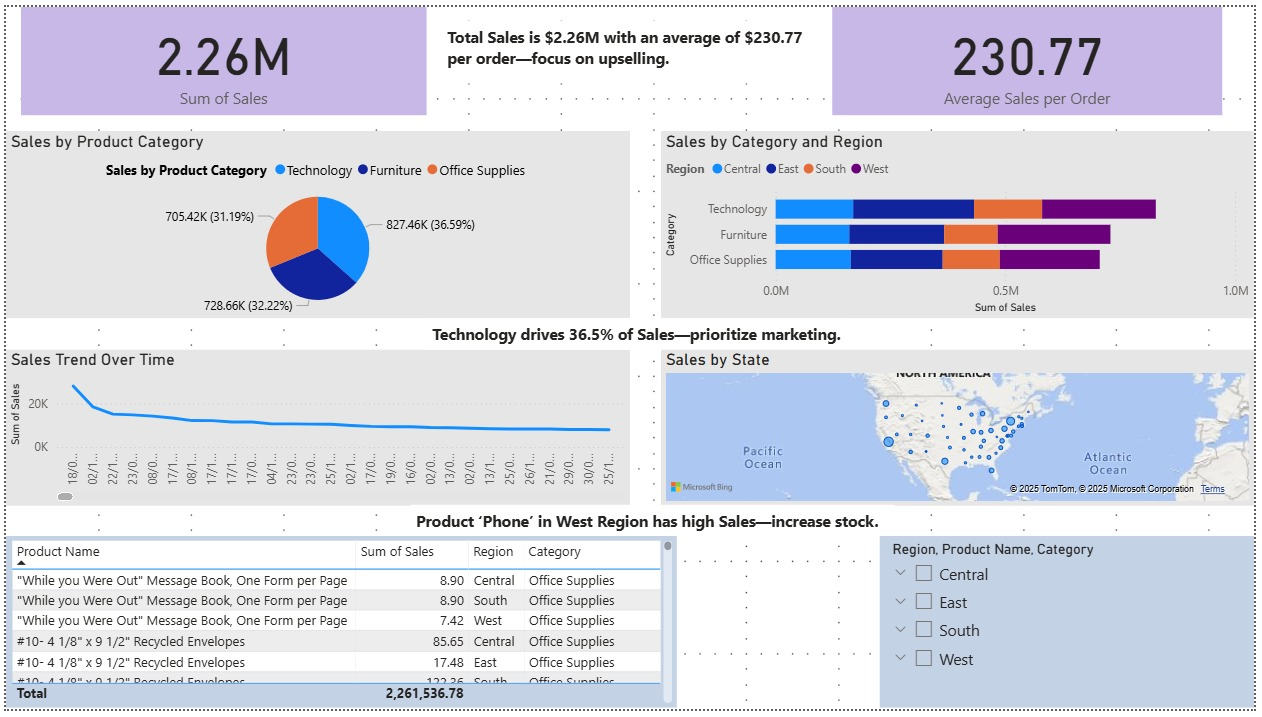

The dashboard page shown, as its layout file describes it:
{"tool":"powerbi","page":{"name":"Page 1","canvas":[1280,720],"ordinal":0},"visuals":[{"type":"barChart","title":"Sales by Category and Region","fields":{"Category":["train.Category"],"Y":["Sum(train.Sales)"],"Series":["train.Region"]},"box":[672,128,608,192],"z":0},{"type":"pieChart","title":"Sales by Product Category","fields":{"Category":["train.Category"],"Y":["Sum(train.Sales)"]},"box":[0,128,640,192],"z":1000},{"type":"lineChart","title":"Sales Trend Over Time","fields":{"Category":["train.Order Date"],"Y":["Sum(train.Sales)"]},"box":[0,352,640,160],"z":2000},{"type":"map","title":"Sales by State","fields":{"Category":["train.State"],"Size":["Sum(train.Sales)"]},"box":[672,352,608,160],"z":3000},{"type":"card","fields":{"Values":["Sum(train.Sales)"]},"box":[16,0,416,112],"z":4000},{"type":"card","fields":{"Values":["train.Average Sales per Order"]},"box":[848,0,400,112],"z":5000},{"type":"tableEx","fields":{"Values":["train.Product Name","Sum(train.Sales)","train.Region","train.Category"]},"box":[0,544,688,176],"z":6000},{"type":"slicer","fields":{"Values":["train.Region","train.Product Name","train.Category"]},"box":[896,544,384,176],"z":7000},{"type":"textbox","box":[448,16,384,64],"z":8000},{"type":"textbox","box":[432,320,432,32],"z":9000},{"type":"textbox","box":[416,512,496,32],"z":10000}]}

Visuals, with their boxes in screenshot pixels (x1, y1, x2, y2), scaled from the page's 1280x720 canvas onto the 1262x717 screenshot:
"Sales by Category and Region" barChart: locate(663, 127, 1261, 319)
"Sales by Product Category" pieChart: locate(0, 127, 631, 319)
"Sales Trend Over Time" lineChart: locate(0, 351, 631, 510)
"Sales by State" map: locate(663, 351, 1261, 510)
card - Sum(train.Sales): locate(16, 0, 426, 112)
card - train.Average Sales per Order: locate(836, 0, 1230, 112)
tableEx - train.Product Name x Sum(train.Sales): locate(0, 542, 678, 716)
slicer - train.Region x train.Product Name: locate(883, 542, 1261, 716)
textbox: locate(442, 16, 820, 80)
textbox: locate(426, 319, 852, 351)
textbox: locate(410, 510, 899, 542)
